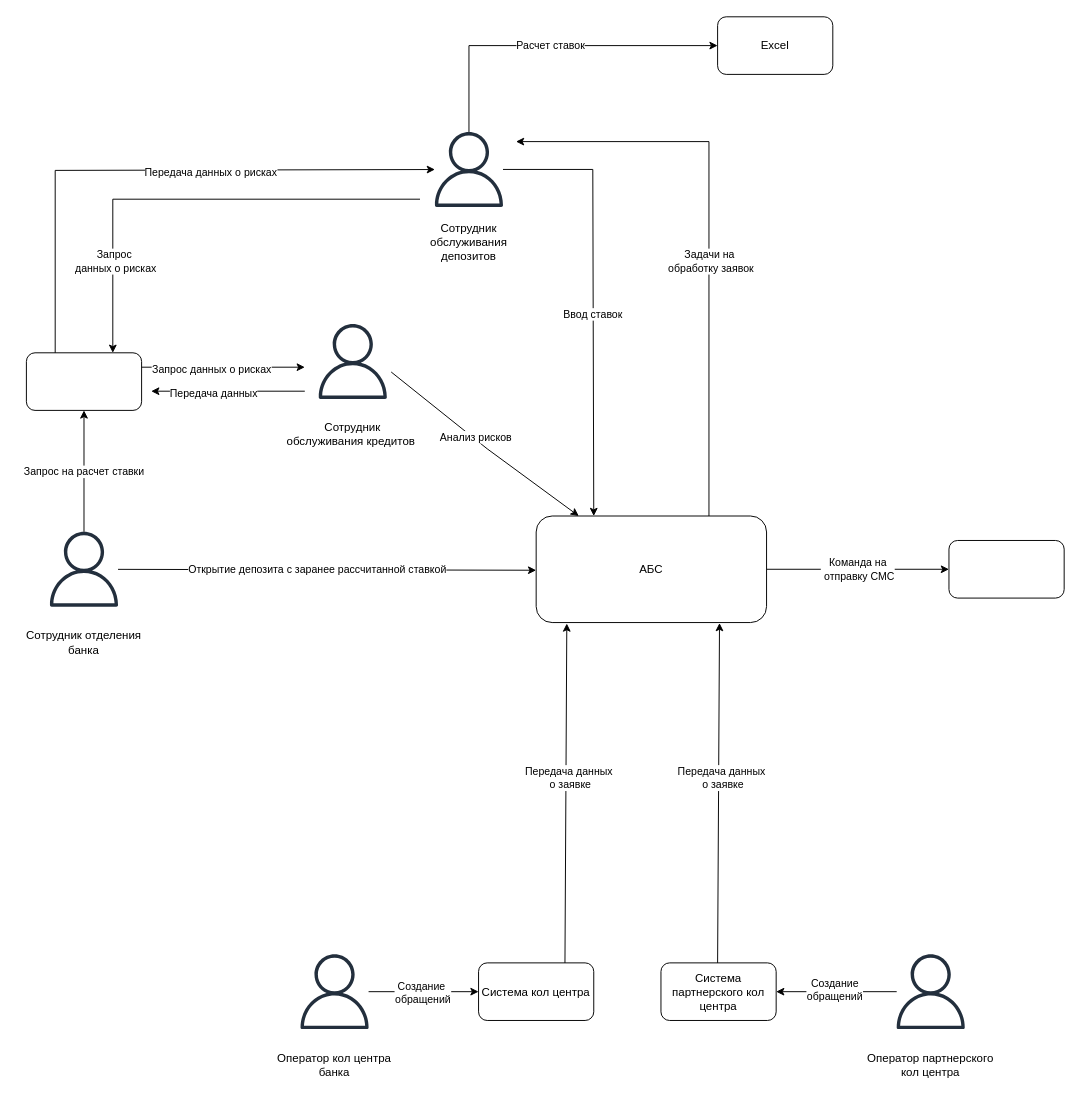
This 1081x1105 diagram has some shape labels left out. Each missing label, with the centre of its shape:
"Почта" belongs at (x=83, y=381).
"СМС шлюз" belongs at (x=1006, y=569).
